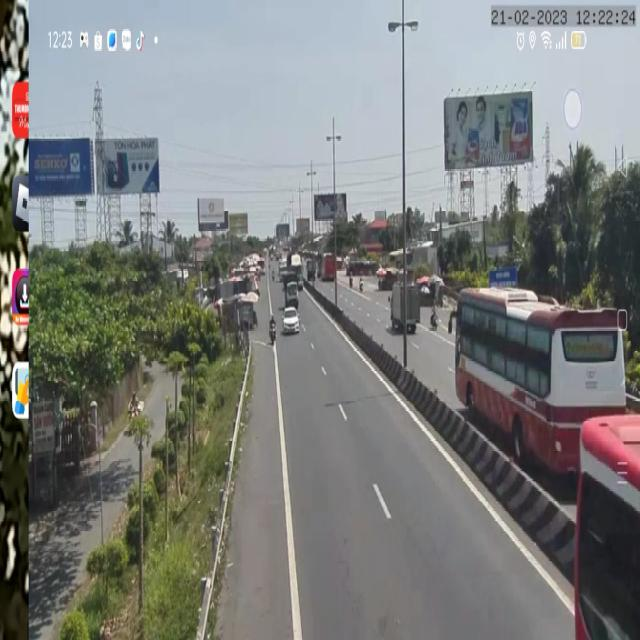bus: (454, 283, 627, 489), (575, 411, 640, 640), (320, 250, 336, 283)
car: (282, 306, 299, 336)
motorbike: (127, 390, 143, 430), (267, 311, 275, 348), (430, 299, 439, 331)
truck: (388, 281, 421, 337), (288, 251, 304, 290), (283, 272, 299, 306)
